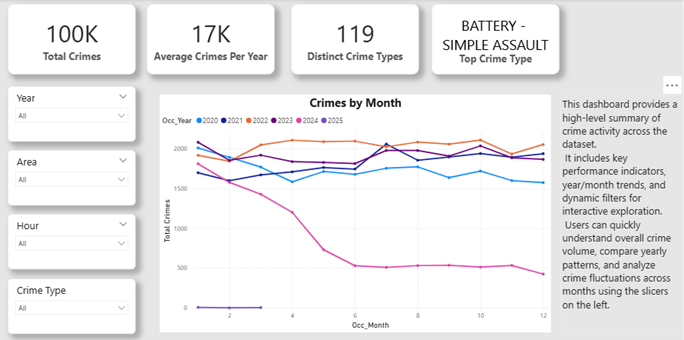

What the dashboard file says about the page in this screenshot:
{"tool":"powerbi","page":{"name":"crimes by month","canvas":[1280,720],"ordinal":0},"visuals":[{"type":"card","fields":{"Values":["cleaned_crime_data.Total Crimes"]},"box":[14.4,8.6,240.5,132.5],"z":0},{"type":"card","fields":{"Values":["cleaned_crime_data.Average Crimes Per Year"]},"box":[275,8.6,240.5,132.5],"z":1000},{"type":"card","fields":{"Values":["cleaned_crime_data.Top Crime Type"]},"box":[809.3,8.6,240.5,132.5],"z":2000},{"type":"card","fields":{"Values":["cleaned_crime_data.Distinct Crime Types"]},"box":[545.8,8.6,240.5,132.5],"z":3000},{"type":"slicer","fields":{"Values":["cleaned_crime_data.Occ_Year"]},"box":[13.8,162.6,240.4,103.8],"z":4000},{"type":"slicer","fields":{"Values":["cleaned_crime_data.AREA NAME"]},"box":[13.8,282.5,240.4,103.8],"z":5000},{"type":"slicer","fields":{"Values":["cleaned_crime_data.Crm Cd Desc"]},"box":[13.8,522.4,240.4,103.8],"z":6000},{"type":"slicer","fields":{"Values":["cleaned_crime_data.Hour"]},"box":[13.8,402.5,240.4,103.8],"z":7000},{"type":"lineChart","title":"Crimes by Month","fields":{"Category":["cleaned_crime_data.Occ_Month"],"Y":["cleaned_crime_data.Total Crimes"],"Series":["cleaned_crime_data.Occ_Year"]},"box":[299.5,178.6,734.4,445],"z":8000},{"type":"textbox","box":[1049.8,178.6,230.4,445],"z":11000}]}

Visuals, with their boxes on the page's 1280x720 design canvas (x1, y1, x2, y2). These are canvas units, not pixel positions in the 684x340 screenshot, which may show the page scaled, cropped or inside an application window:
card - cleaned_crime_data.Total Crimes: bbox=(14, 9, 255, 141)
card - cleaned_crime_data.Average Crimes Per Year: bbox=(275, 9, 516, 141)
card - cleaned_crime_data.Top Crime Type: bbox=(809, 9, 1050, 141)
card - cleaned_crime_data.Distinct Crime Types: bbox=(546, 9, 786, 141)
slicer - cleaned_crime_data.Occ_Year: bbox=(14, 163, 254, 266)
slicer - cleaned_crime_data.AREA NAME: bbox=(14, 282, 254, 386)
slicer - cleaned_crime_data.Crm Cd Desc: bbox=(14, 522, 254, 626)
slicer - cleaned_crime_data.Hour: bbox=(14, 402, 254, 506)
"Crimes by Month" lineChart: bbox=(300, 179, 1034, 624)
textbox: bbox=(1050, 179, 1280, 624)
